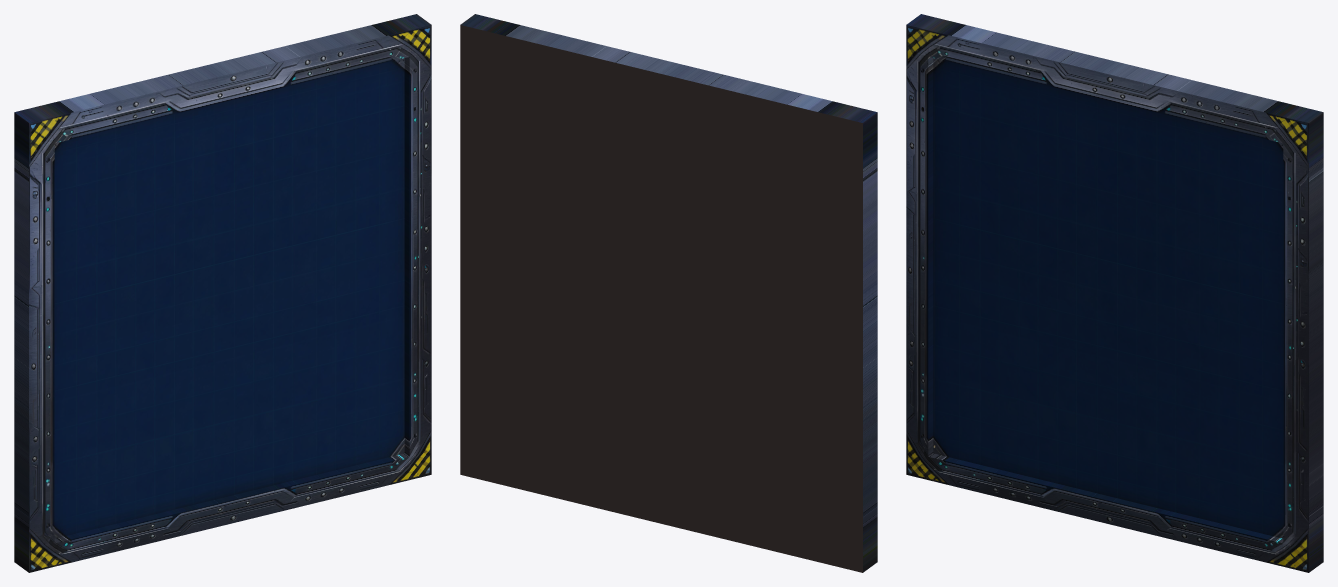
Rendered from panel_ball_intro.glb.
3 views of the same model, side by side, from view 1: azimuth 30°, elevation 25°; view 2: azimuth 150°, elevation 25°; view 3: azimuth 330°, elevation 25° (orthographic).
Visible parts, largest first — view 1: panel_ball_intro; view 2: panel_ball_intro; view 3: panel_ball_intro.
Part boxes in pixels (<box>): panel_ball_intro: <box>14,14,431,572</box>; panel_ball_intro: <box>460,14,877,572</box>; panel_ball_intro: <box>906,14,1323,572</box>.
Bounding box in the file's own units: 0.59 × 0.63 × 0.042.
1 material, 1 textured.
